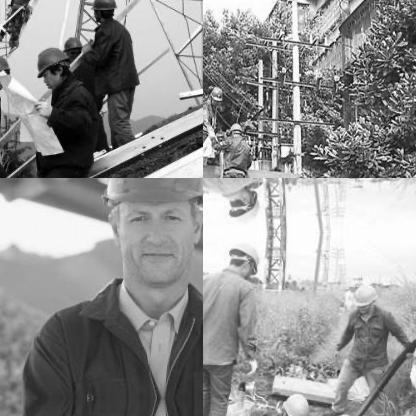Helmet: (89, 178, 202, 304), (32, 43, 72, 89), (224, 240, 260, 278), (224, 184, 260, 222), (349, 279, 377, 313), (280, 389, 311, 415), (89, 0, 117, 22), (64, 32, 84, 58), (0, 51, 11, 88), (206, 83, 224, 105), (226, 120, 244, 136), (348, 178, 378, 185)
